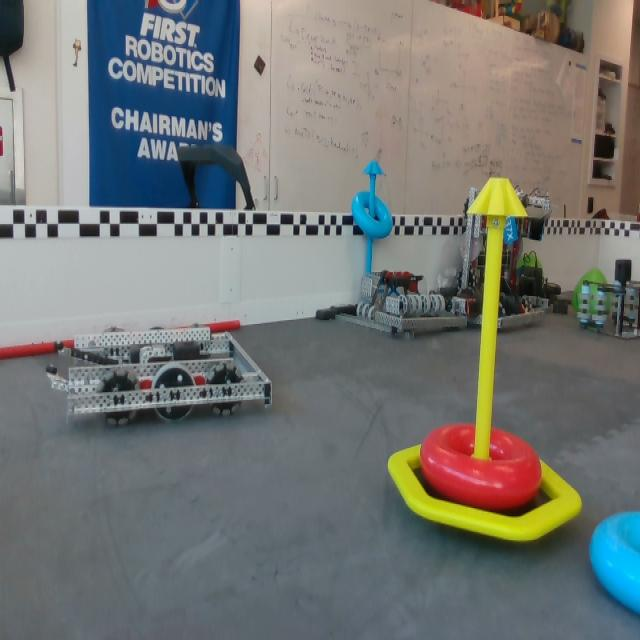Blue-Ring: (591, 508, 639, 618), (347, 190, 399, 243)
Mobile-Goal: (382, 172, 589, 549)
Red-Ring: (418, 423, 541, 503)
Yellow-Stake-Head: (464, 175, 528, 220)
zblue-Stake-Head: (363, 160, 383, 175)
